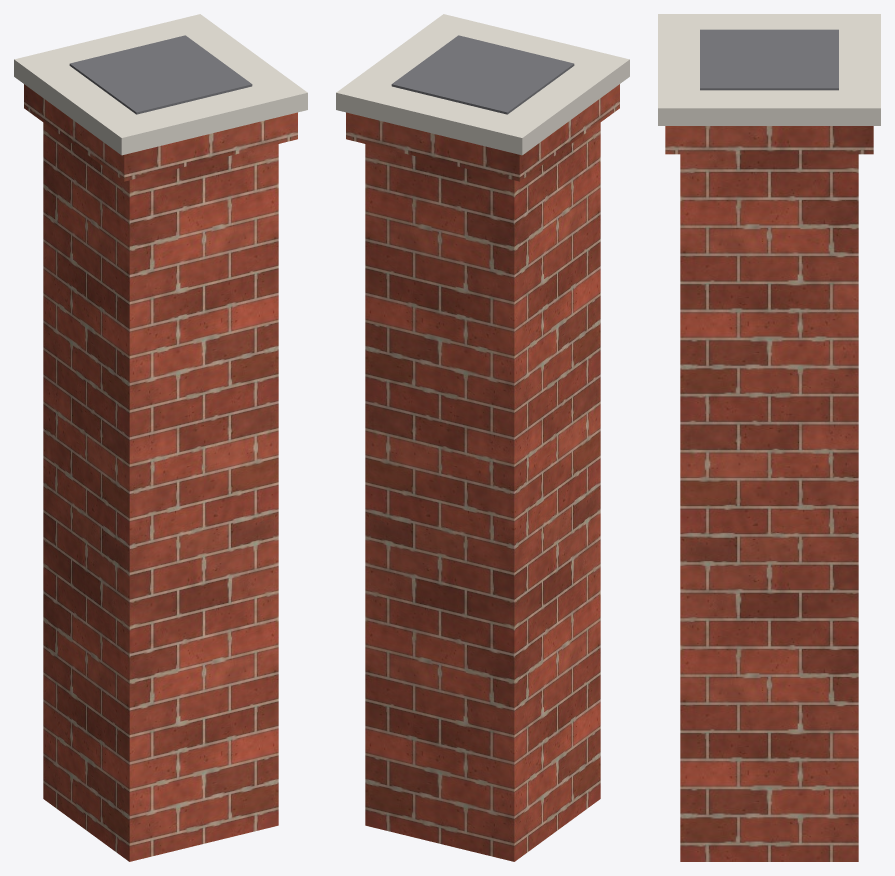
The model's file is chimney_left.glb.
The picture shows the model from 3 angles, left to right: view 1: azimuth 30°, elevation 25°; view 2: azimuth 150°, elevation 25°; view 3: azimuth 270°, elevation 25°; orthographic projection. The views are drawn at different scales.
Parts seen in each view (by area): view 1: chimney_left_brick, chimney_left_lime, chimney_left_dark; view 2: chimney_left_brick, chimney_left_lime, chimney_left_dark; view 3: chimney_left_brick, chimney_left_lime, chimney_left_dark.
Part boxes in pixels (x1,y1,x2,y2): chimney_left_brick: (24, 84, 297, 861); chimney_left_lime: (14, 14, 307, 155); chimney_left_dark: (69, 35, 252, 114); chimney_left_brick: (346, 84, 619, 861); chimney_left_lime: (336, 14, 629, 155); chimney_left_dark: (391, 35, 574, 114); chimney_left_brick: (665, 126, 873, 861); chimney_left_lime: (658, 14, 880, 125); chimney_left_dark: (700, 29, 838, 90).
Bounding box in the file's own units: 0.9 × 3.41 × 0.9.
3 materials, 1 textured.
